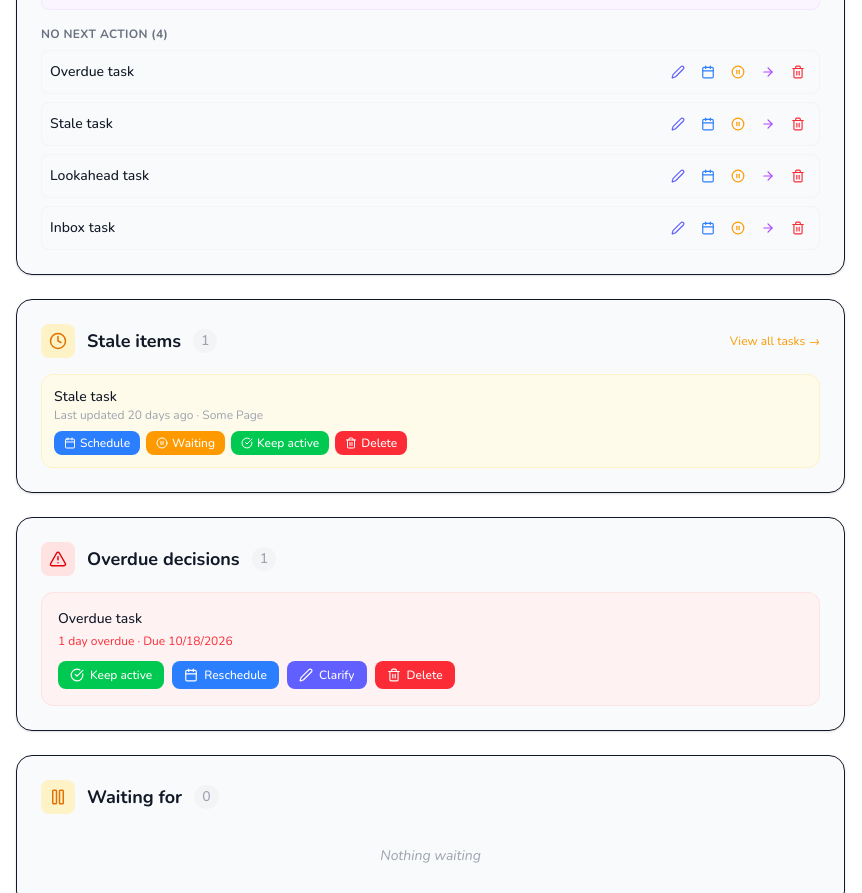
it: WeeklyReview › dismisses stale item when keep active is clicked
The image size is (862, 893).
(page scrolled)
Click the button "Keep active" below "Stale items". click: (280, 443)
box: [231,431,329,455]
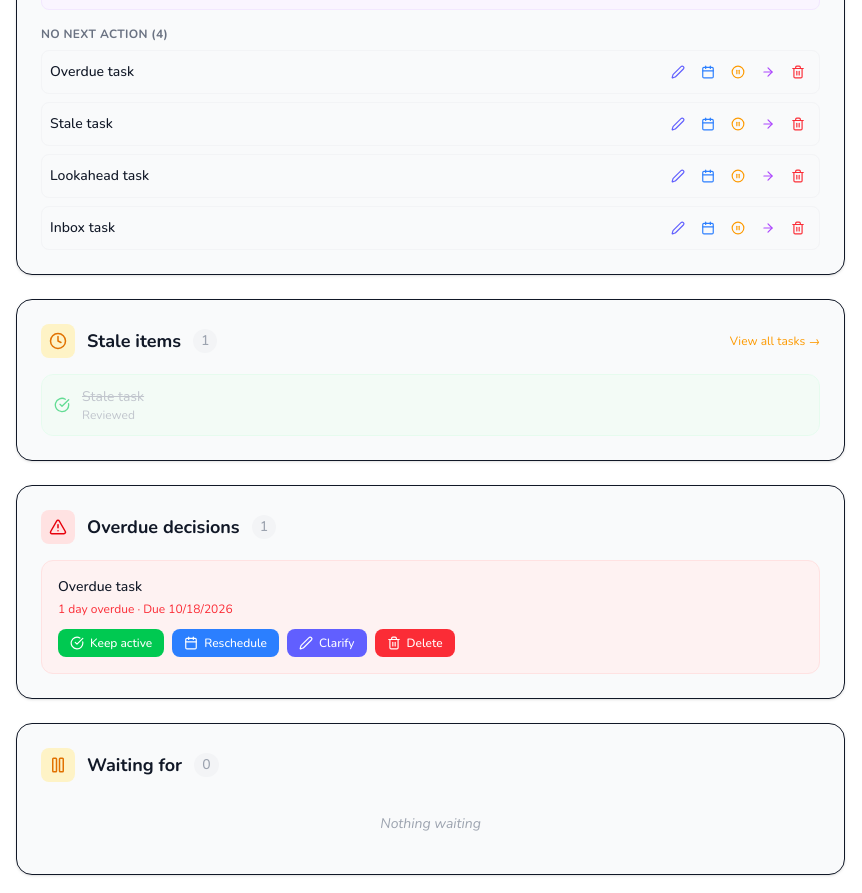
Expected: the text "Reviewed" is shown, [82,407,135,423]
